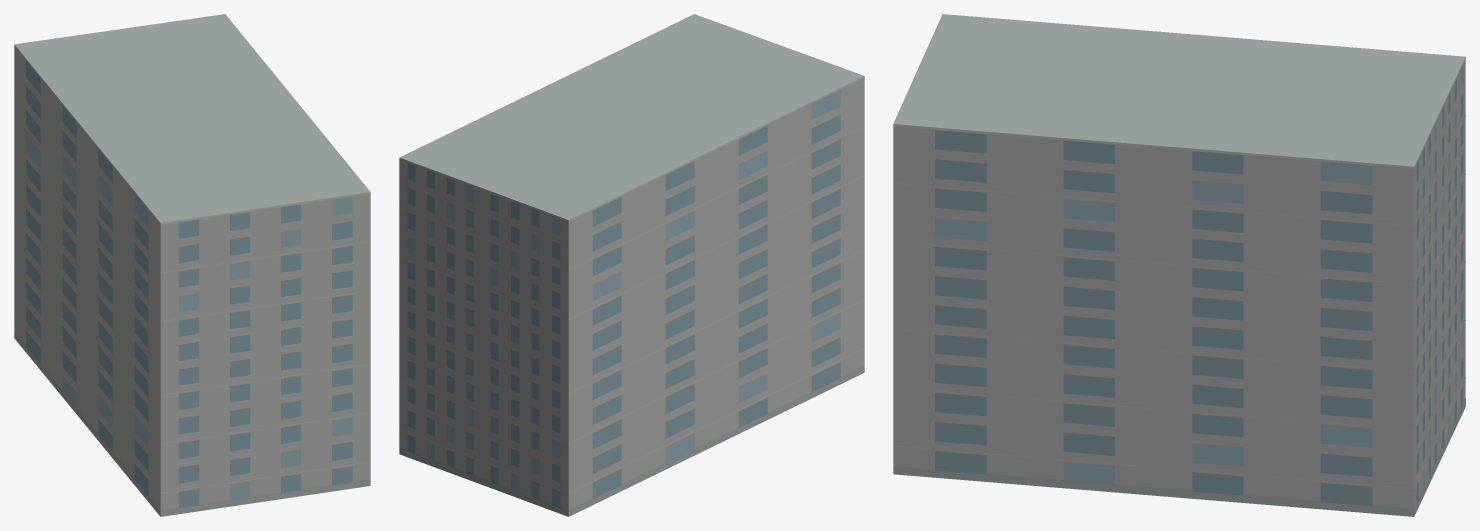
Rendered from residential-d7d957aa-60b3-411a-906e-ee54b9550fd8.glb.
3 renders of one model, left to right at view 1: azimuth 30°, elevation 25°; view 2: azimuth 150°, elevation 25°; view 3: azimuth 270°, elevation 25°, orthographic. The views are drawn at different scales.
Visible parts, largest first — view 1: residential-d7d957aa-60b3-411a-906e-ee54b9550fd8.tmp; view 2: residential-d7d957aa-60b3-411a-906e-ee54b9550fd8.tmp; view 3: residential-d7d957aa-60b3-411a-906e-ee54b9550fd8.tmp.
Part boxes in pixels (x1=…): residential-d7d957aa-60b3-411a-906e-ee54b9550fd8.tmp: x1=14, y1=14, x2=370, y2=516; residential-d7d957aa-60b3-411a-906e-ee54b9550fd8.tmp: x1=399, y1=14, x2=864, y2=516; residential-d7d957aa-60b3-411a-906e-ee54b9550fd8.tmp: x1=893, y1=14, x2=1465, y2=516.
Bounding box in the file's own units: 36.5 × 39 × 57.81.
